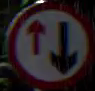Two way: (6, 3, 94, 90)
